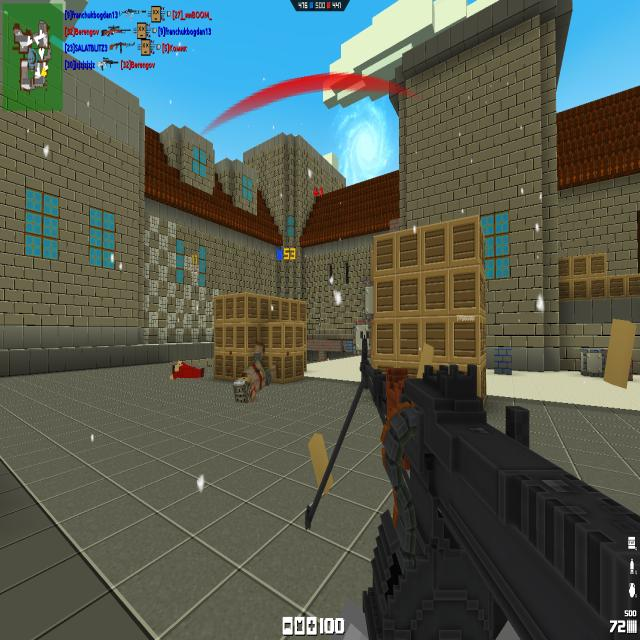player: (237, 343, 272, 403), (170, 360, 203, 379)
